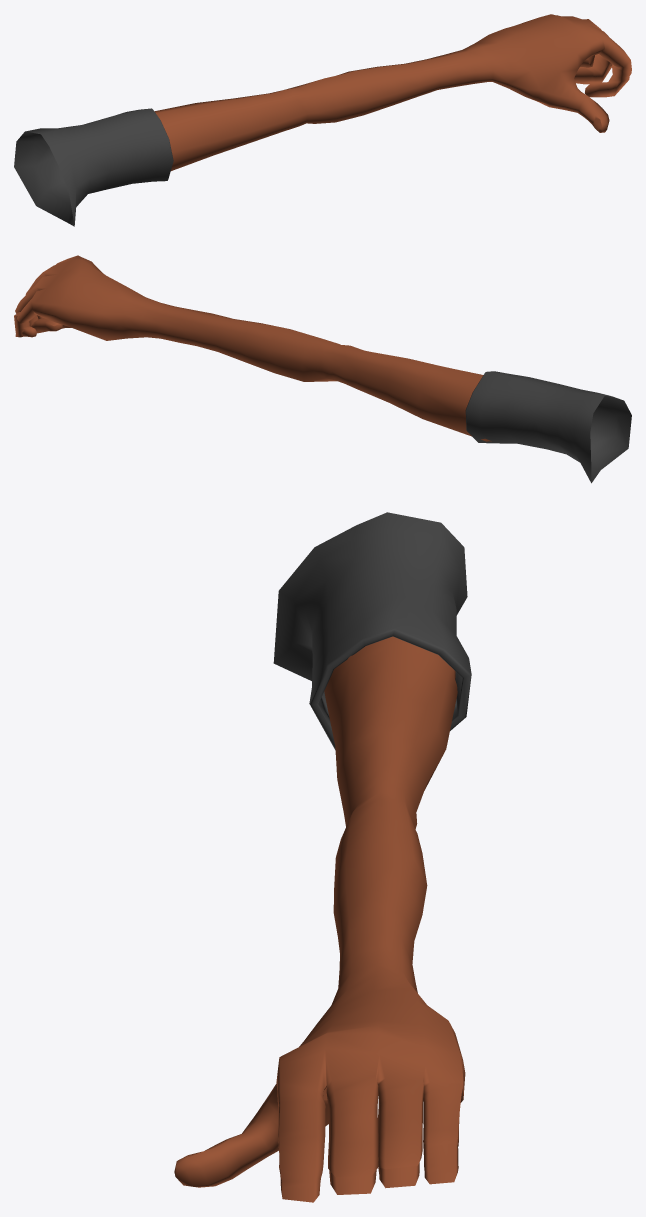
Rendered from el-sade.fbx.
3 views of the same model, one above another, from view 1: azimuth 30°, elevation 25°; view 2: azimuth 150°, elevation 25°; view 3: azimuth 270°, elevation 25° (orthographic). The views are drawn at different scales.
Parts seen in each view (by area): view 1: Gary_Body; view 2: Gary_Body; view 3: Gary_Body.
Part boxes in pixels (left/top/right/bottom): Gary_Body: left=14, top=14, right=631, bottom=226; Gary_Body: left=14, top=255, right=631, bottom=483; Gary_Body: left=174, top=512, right=471, bottom=1202.
Bounding box in the file's own units: 8.23 × 1.19 × 1.85.
